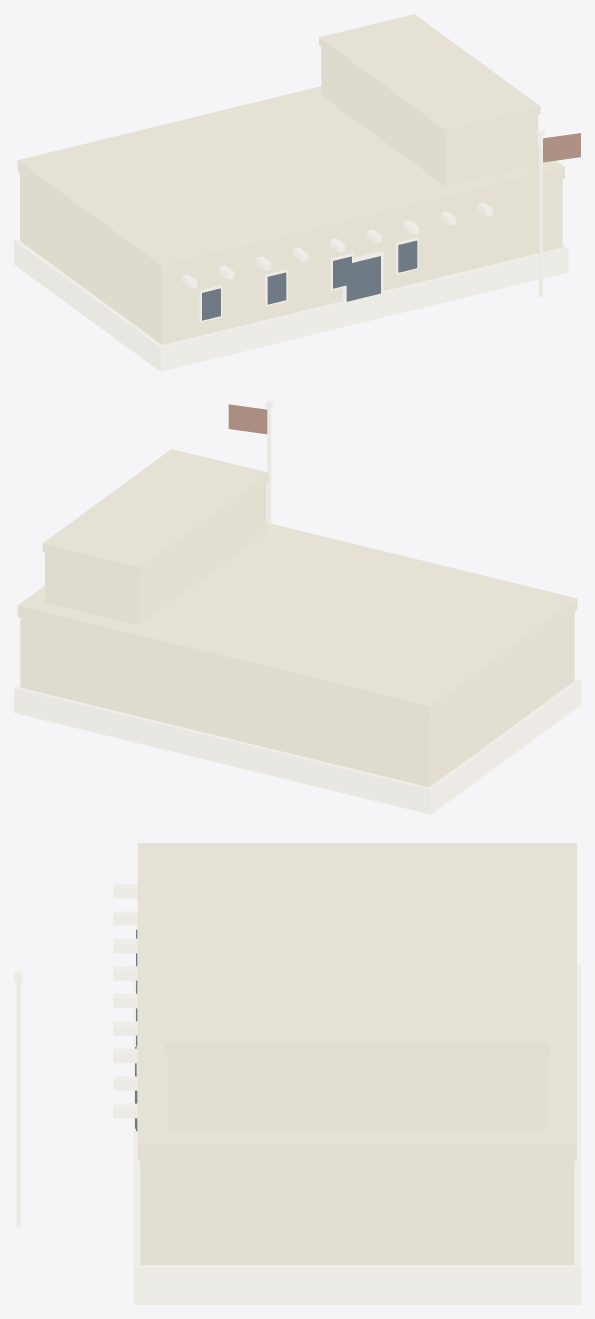
File: Blender_Clubhouse_adobe.glb
3 views of the same model, one above another, from view 1: azimuth 30°, elevation 25°; view 2: azimuth 150°, elevation 25°; view 3: azimuth 270°, elevation 25° (orthographic). The views are drawn at different scales.
Visible parts, largest first — view 1: Blender_Clubhouse_adobe; view 2: Blender_Clubhouse_adobe; view 3: Blender_Clubhouse_adobe.
Boxes of the visible parts, <box> form: Blender_Clubhouse_adobe: <box>14,14,580,371</box>; Blender_Clubhouse_adobe: <box>14,400,580,814</box>; Blender_Clubhouse_adobe: <box>14,843,580,1304</box>.
Size of the model in its own units: 26.5 by 11.5 by 20.91.
